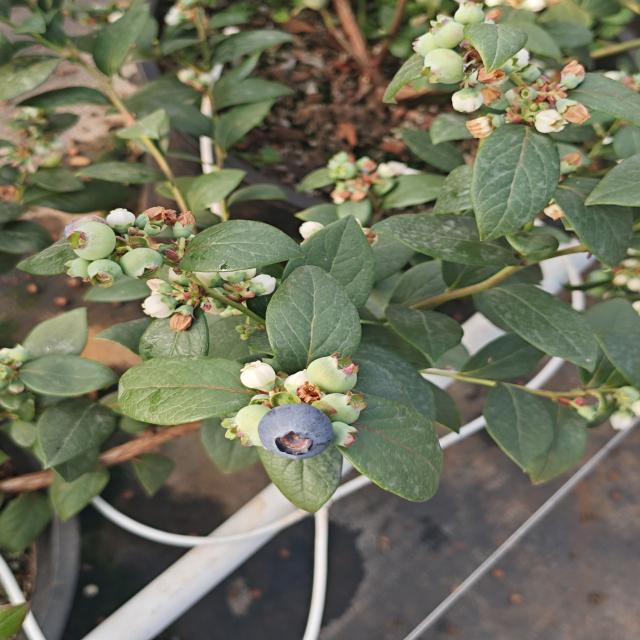ripe: (254, 398, 342, 464)
